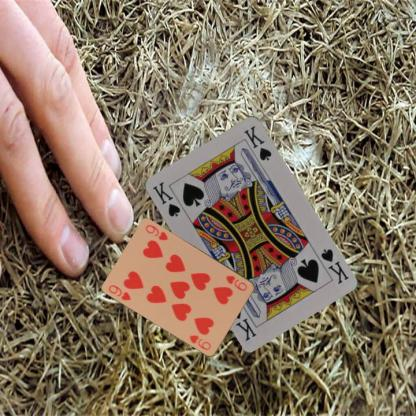9h: (106, 282, 133, 302), (224, 272, 248, 292)
Ks: (318, 245, 350, 286), (150, 178, 181, 219)
